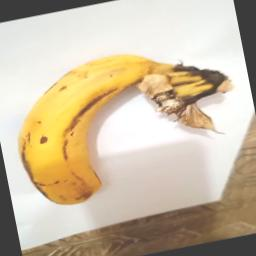Banana Unripe: (4, 28, 254, 214)
